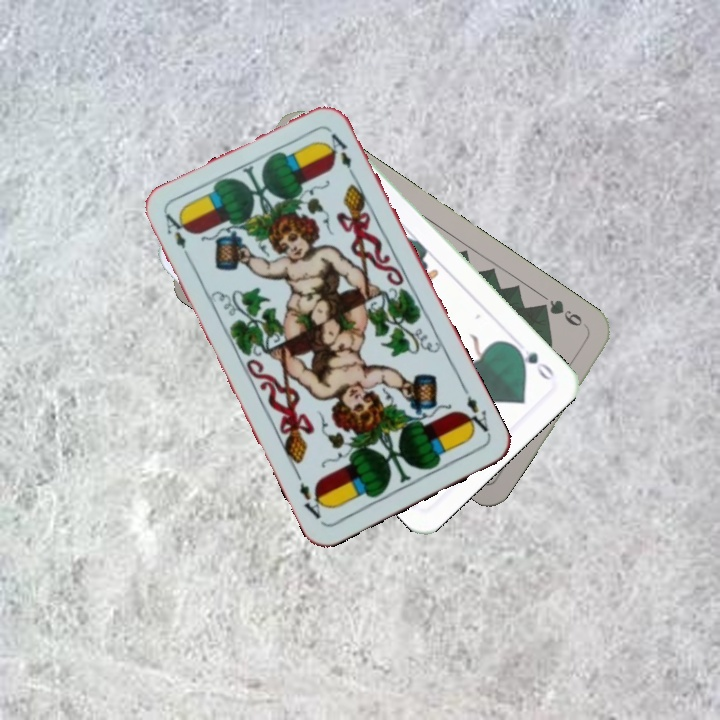EA: (161, 209, 194, 265), (458, 391, 493, 439)
G9: (534, 295, 591, 332)
GO: (508, 340, 557, 383)
